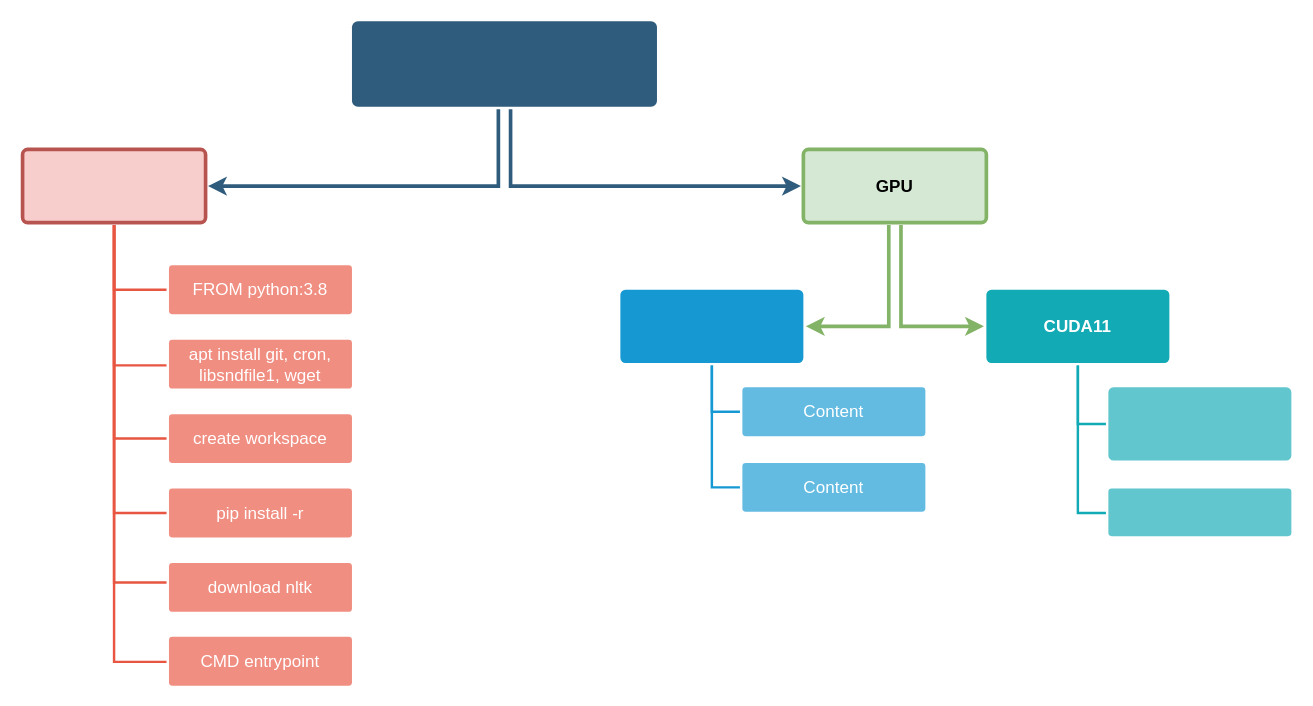
The diagram is 1313 pixels wide and 706 high, and some of its shapes have lost their labels. The centre of each missing label's shape, as x and y in pixels:
CPU: (x=113, y=185)
CUDA10: (x=711, y=325)
FROM nvidia/cuda: 11.2.0-cudnn8-devel- ubuntu18.04: (x=1199, y=423)
TTS IMAGE: (x=503, y=63)
